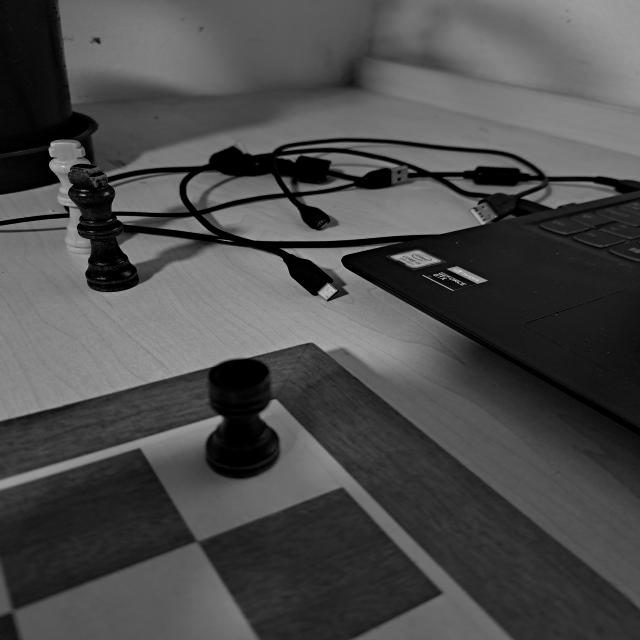chess-table-corners: (208, 378, 326, 445)
